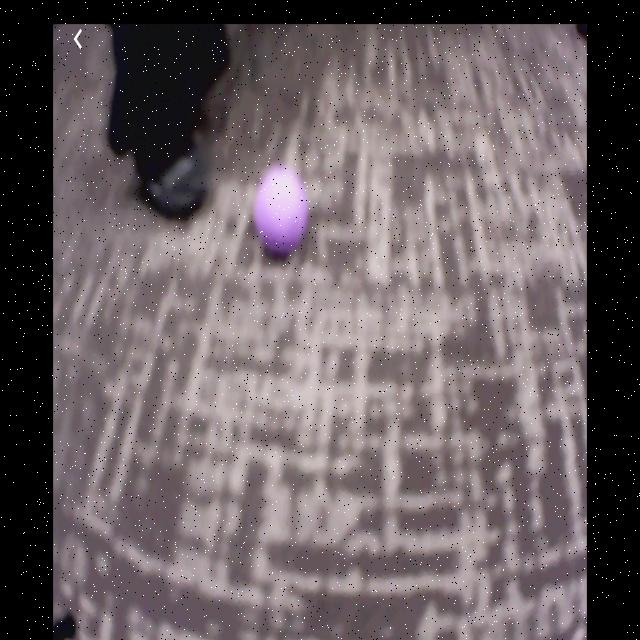ball: (253, 163, 310, 258)
